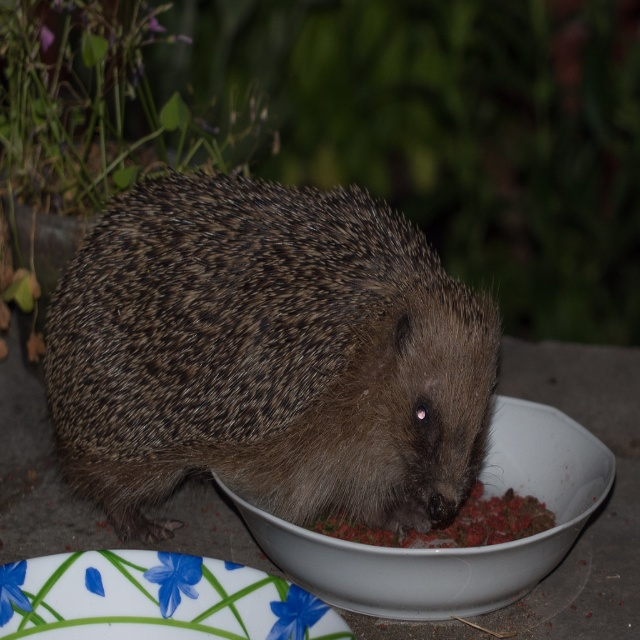Hedgehog: (44, 167, 501, 541)
